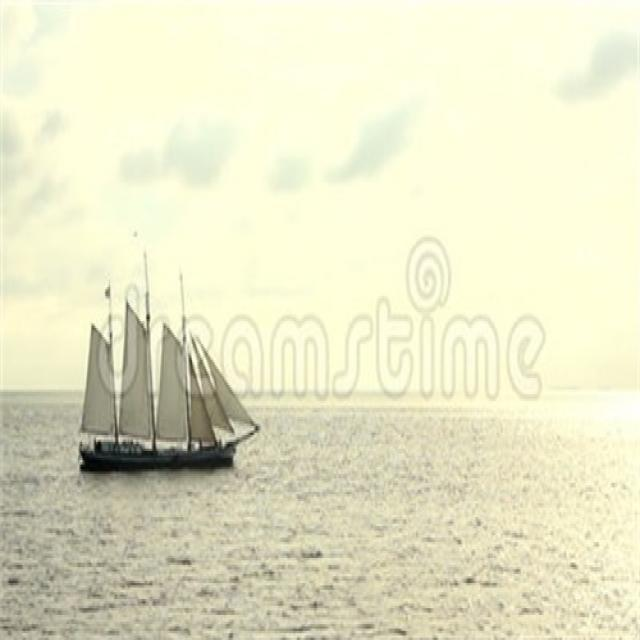Ship: (77, 292, 259, 481)
